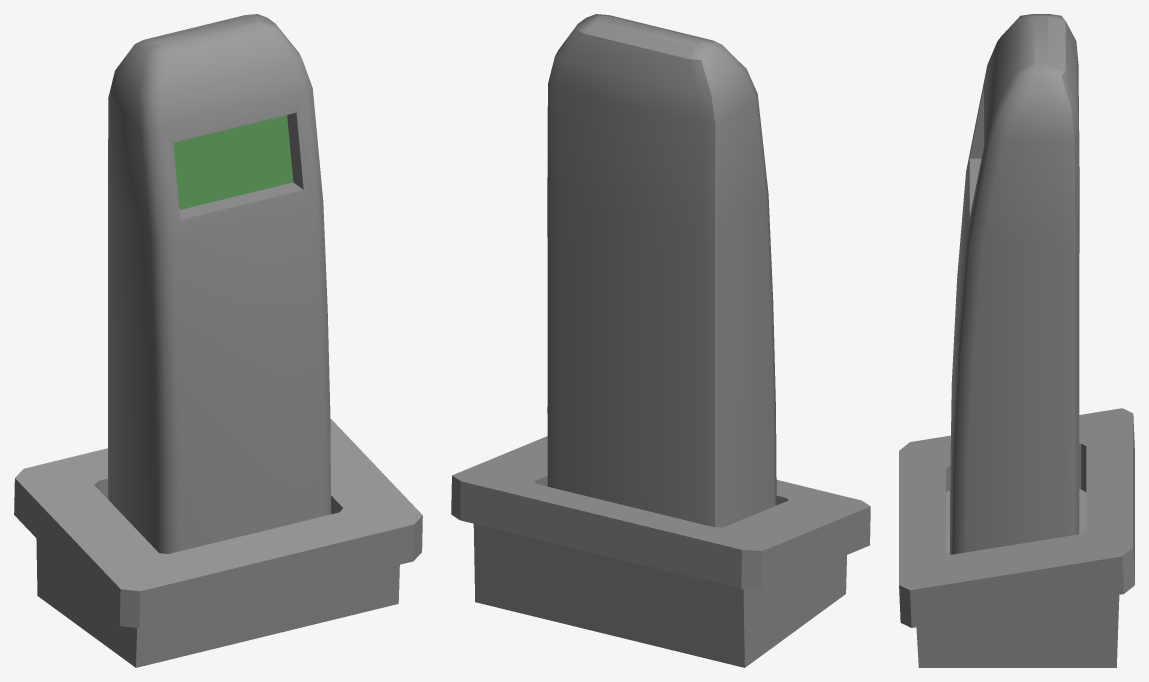
File: Phone_Office.FBX
The picture shows the model from 3 angles, left to right: view 1: azimuth 30°, elevation 25°; view 2: azimuth 150°, elevation 25°; view 3: azimuth 270°, elevation 25°; orthographic projection. The views are drawn at different scales.
Visible parts, largest first — view 1: Phone-Office; view 2: Phone-Office; view 3: Phone-Office.
Part boxes in pixels (<box>): Phone-Office: <box>14,14,422,667</box>; Phone-Office: <box>451,14,870,667</box>; Phone-Office: <box>899,14,1134,667</box>.
Bounding box in the file's own units: 6.31 × 11.17 × 4.24.
